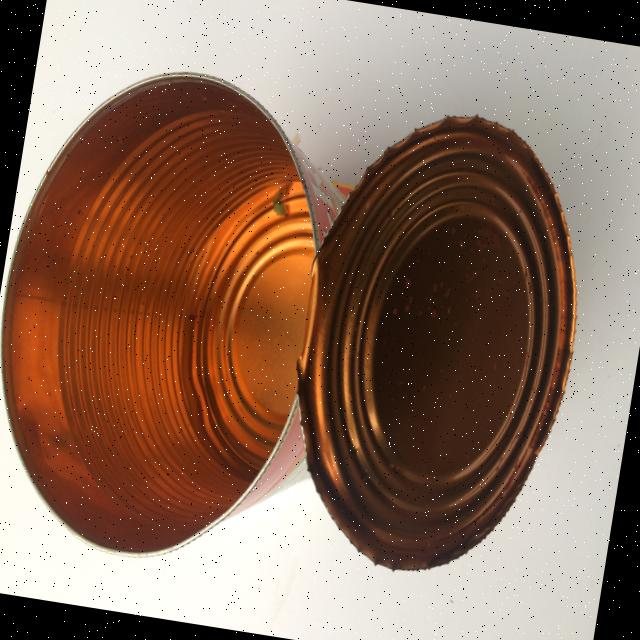metal: (0, 17, 348, 634), (268, 47, 599, 620)
